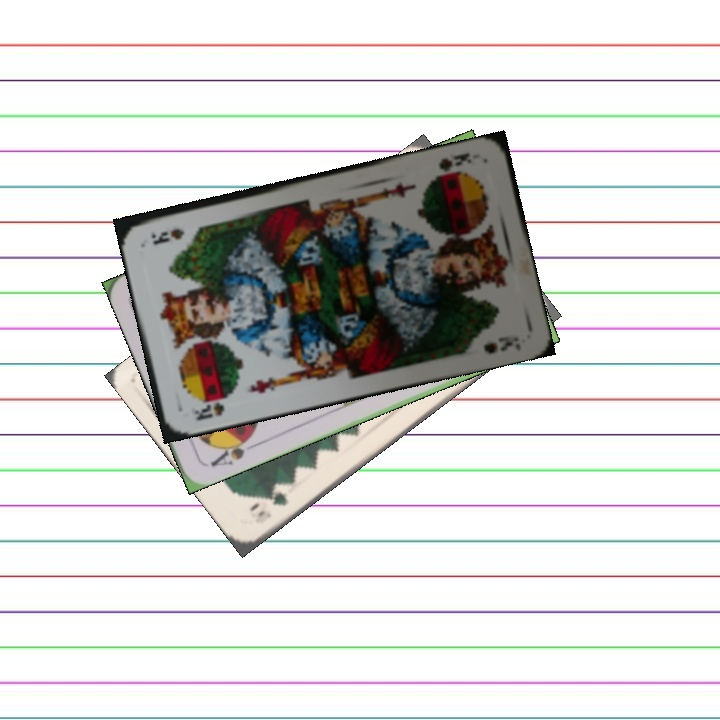G10: (253, 487, 291, 520)
SA: (206, 429, 260, 470)
SK: (434, 148, 475, 174), (190, 398, 227, 423)
